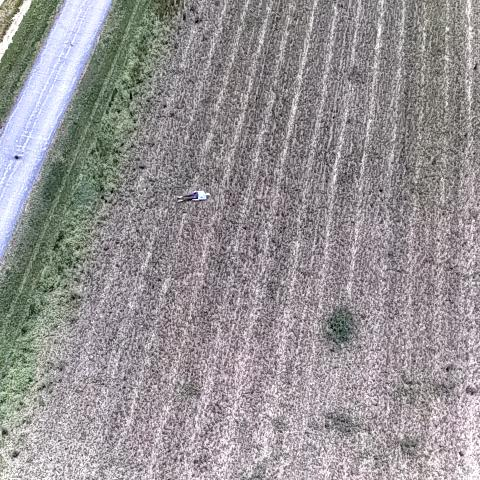person: (176, 187, 211, 205)
